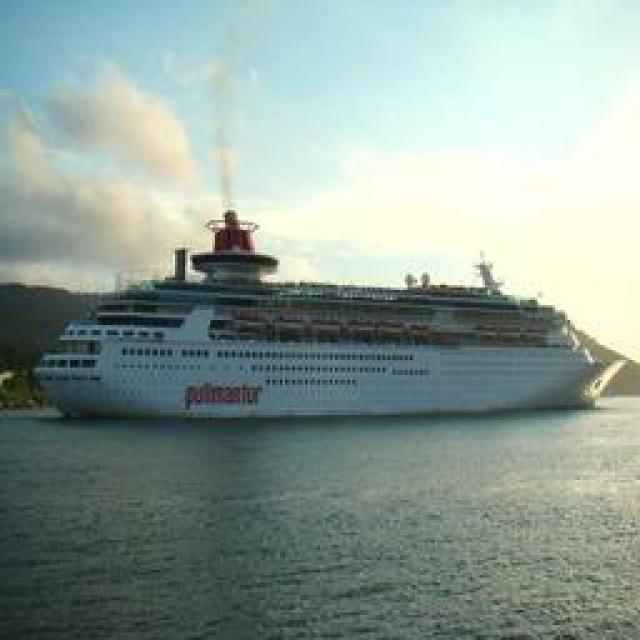ship2: (35, 211, 632, 428)
